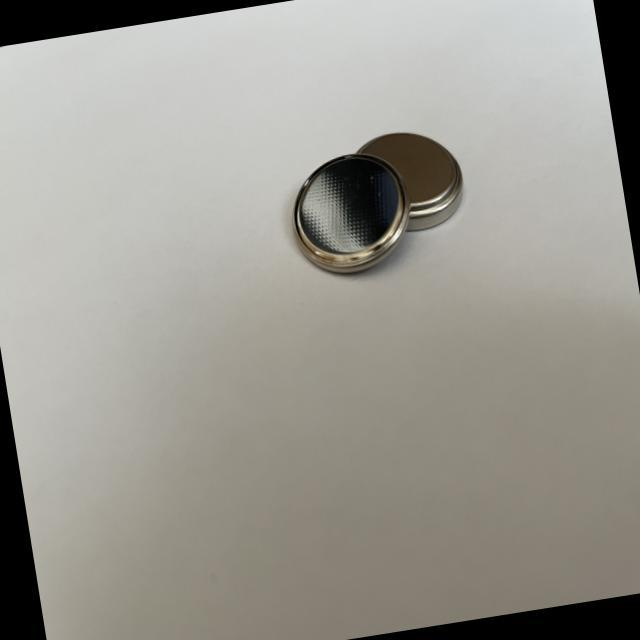COIN: (282, 146, 418, 280), (352, 122, 471, 240)
